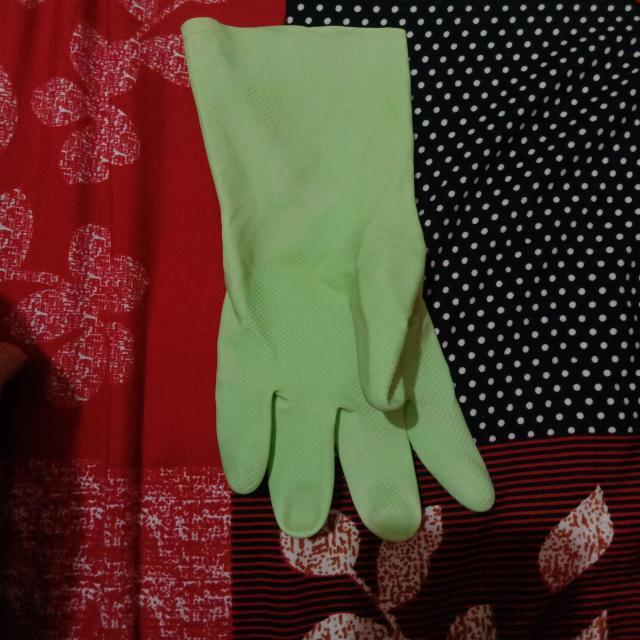glove_hand: (173, 11, 504, 547)
